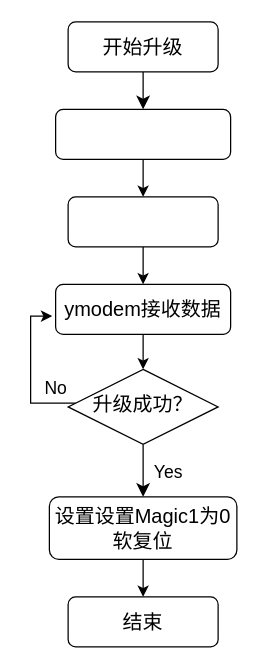
This 259x669 diagram has some shape labels left out. The box of each missing label's shape, as (x1, y1, x2, y2) in pixels:
擦除标志Magic1-3: (54, 108, 231, 159)
设置Magic2为0: (67, 196, 218, 247)
